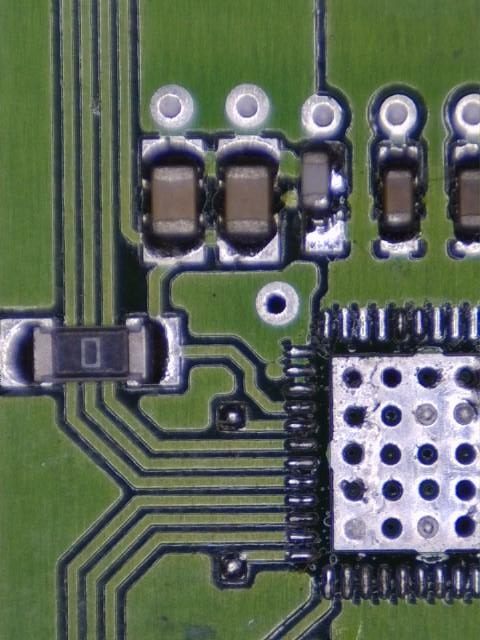pcb_defect: (301, 139, 347, 254)
